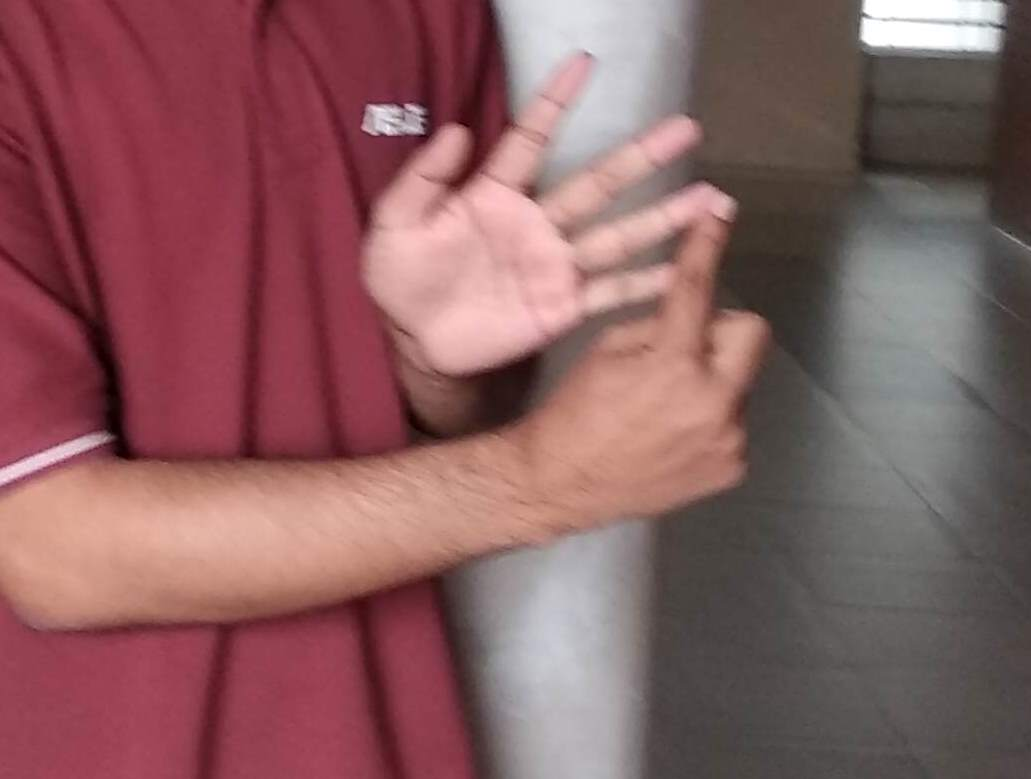e: (412, 55, 778, 451)
